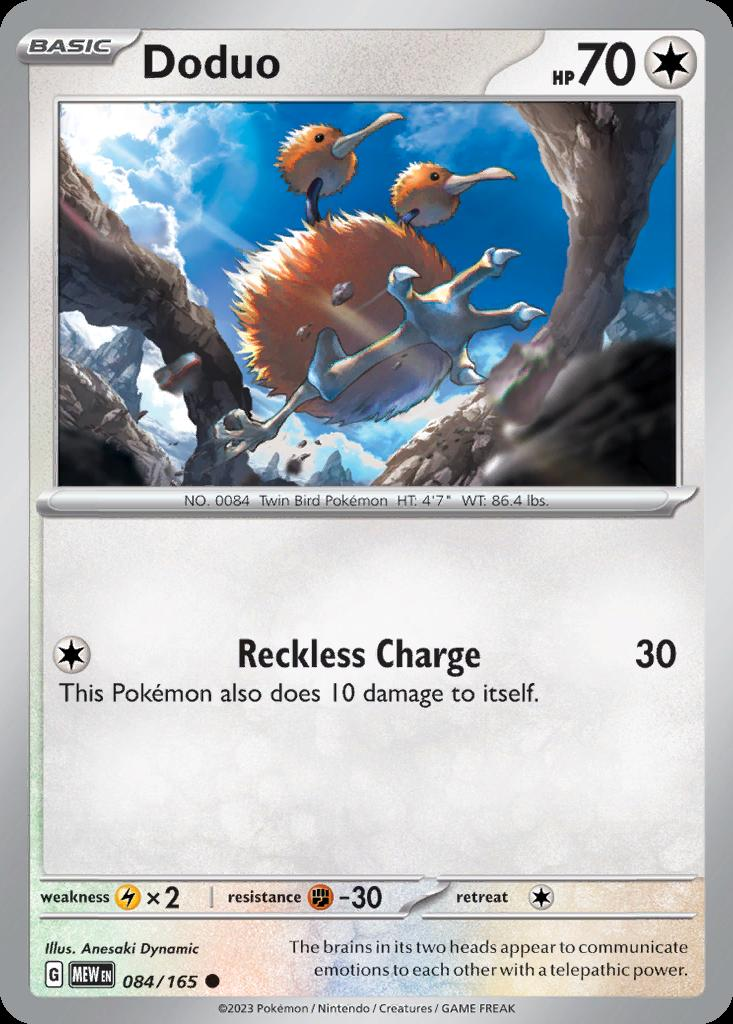card: (11, 3, 731, 1024)
hp: (540, 31, 703, 93)
name: (131, 24, 294, 91)
set num: (117, 957, 226, 1001)
set symbol: (36, 957, 117, 1000)
